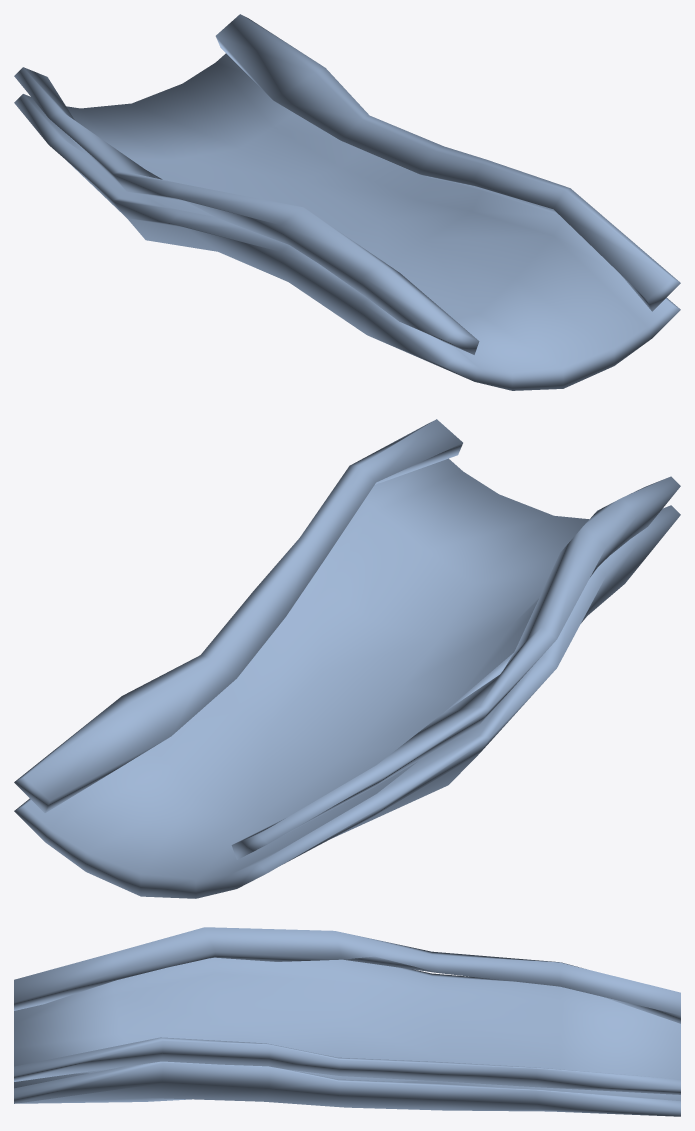
File: junRoadShort5.fbx
3 views of the same model, one above another, from view 1: azimuth 30°, elevation 25°; view 2: azimuth 150°, elevation 25°; view 3: azimuth 270°, elevation 25° (orthographic). The views are drawn at different scales.
Visible parts, largest first — view 1: roadShort5_LOD0, roadShort5_edge_LOD0; view 2: roadShort5_LOD0, roadShort5_edge_LOD0; view 3: roadShort5_LOD0, roadShort5_edge_LOD0.
Boxes of the visible parts, x1,y1,x2,y2 form: roadShort5_LOD0: (14,53,680,390); roadShort5_edge_LOD0: (14,14,680,354); roadShort5_LOD0: (14,458,680,898); roadShort5_edge_LOD0: (14,419,680,859); roadShort5_LOD0: (14,957,680,1116); roadShort5_edge_LOD0: (14,927,680,1094).
Bounding box in the file's own units: 868 × 434 × 1937.
